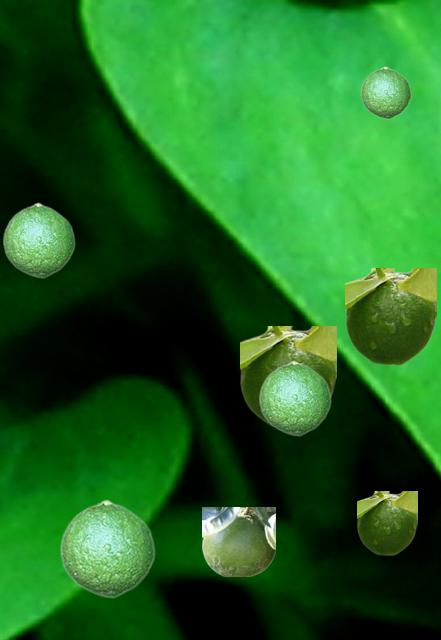dalandan: (240, 326, 335, 426), (59, 499, 154, 597), (345, 268, 435, 364), (258, 360, 330, 435), (2, 202, 74, 277), (202, 507, 274, 575), (357, 491, 416, 554), (360, 66, 410, 118)
